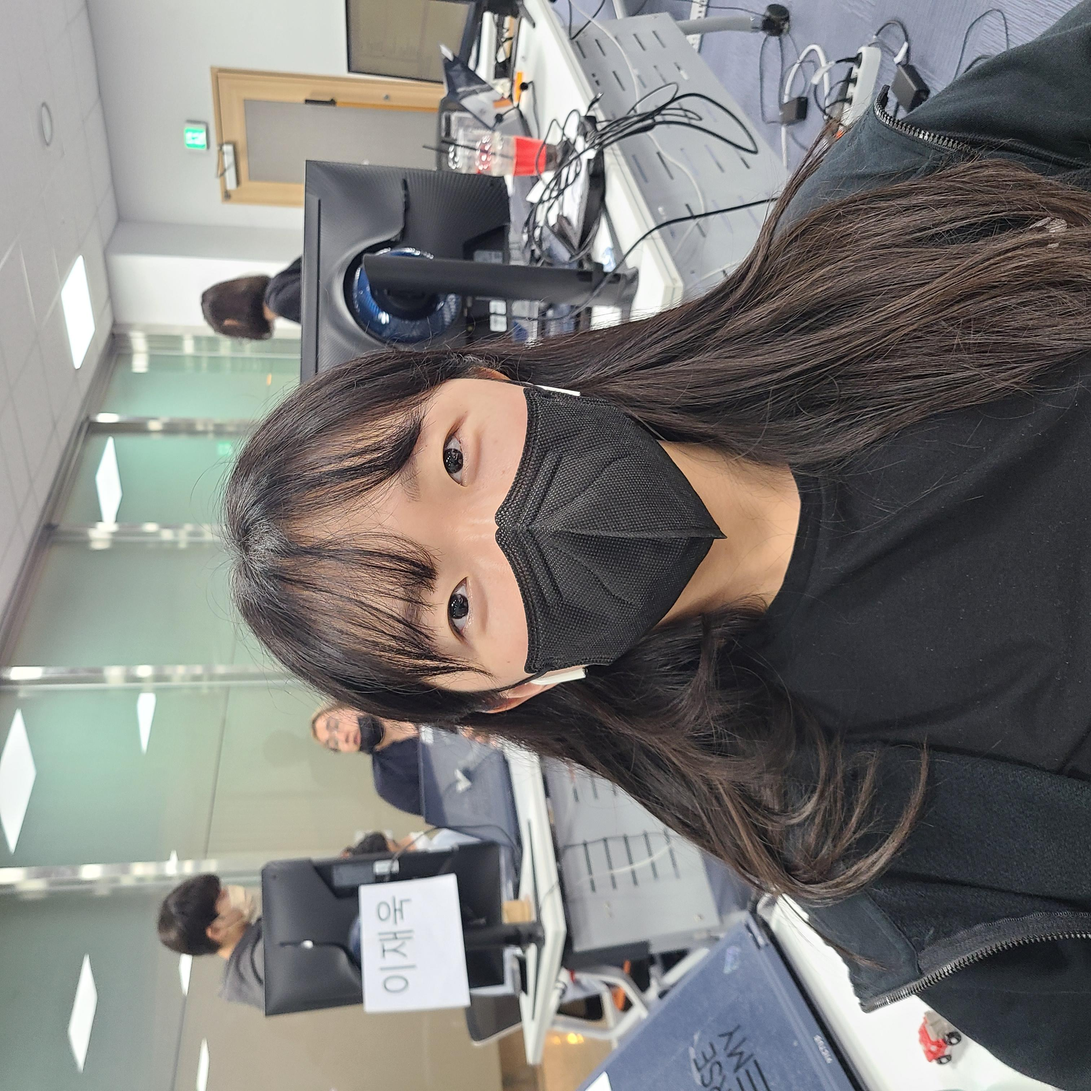earphone: (383, 513, 441, 599), (695, 500, 716, 586)
